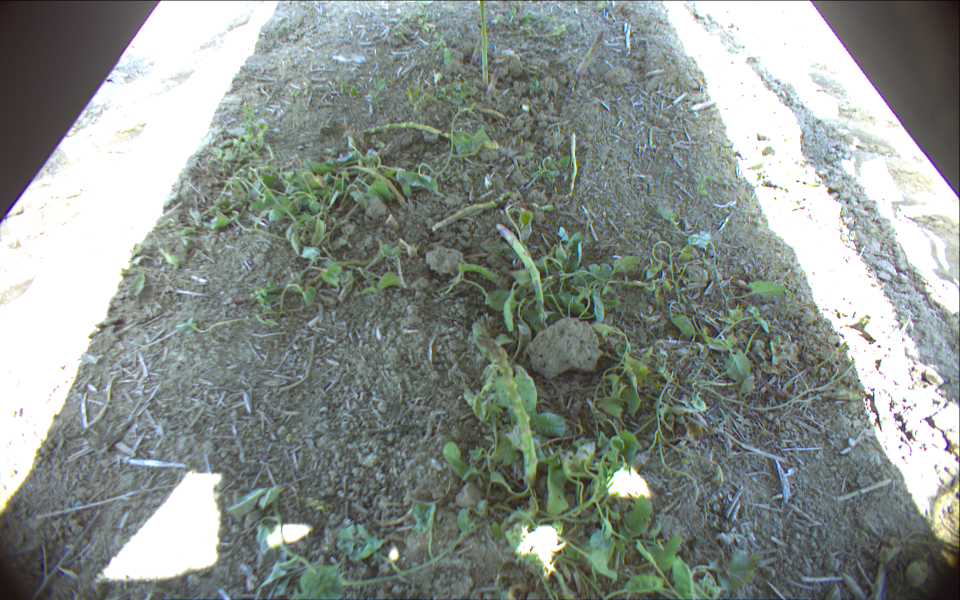aspa: (479, 337, 536, 485), (496, 224, 542, 308), (430, 194, 507, 231), (363, 121, 455, 143), (573, 31, 606, 77), (479, 1, 489, 84), (568, 131, 577, 190)
